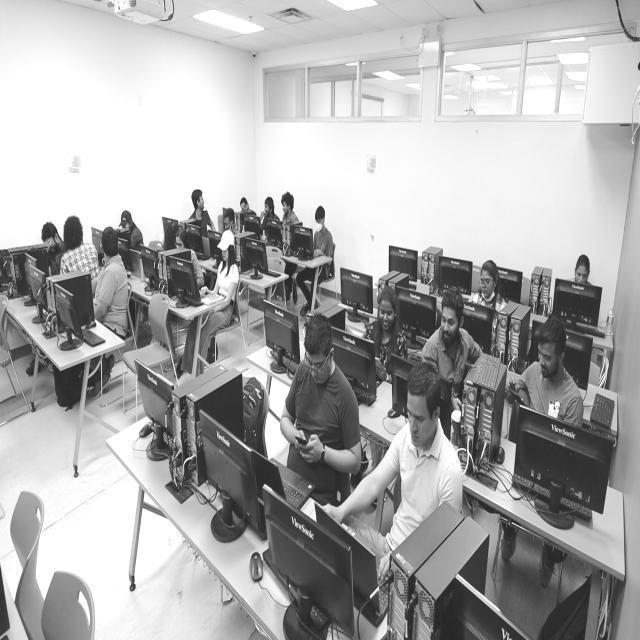Looking away: (407, 390, 432, 448), (537, 341, 557, 378), (440, 306, 458, 343), (379, 300, 395, 330), (480, 270, 494, 298), (574, 262, 588, 288), (44, 238, 58, 254), (174, 236, 184, 252), (315, 217, 324, 233), (282, 202, 291, 216), (222, 247, 230, 262), (264, 202, 271, 218), (198, 196, 205, 210)
Phone use: (276, 312, 361, 468)
Turning around: (95, 228, 128, 336), (61, 216, 100, 276)
